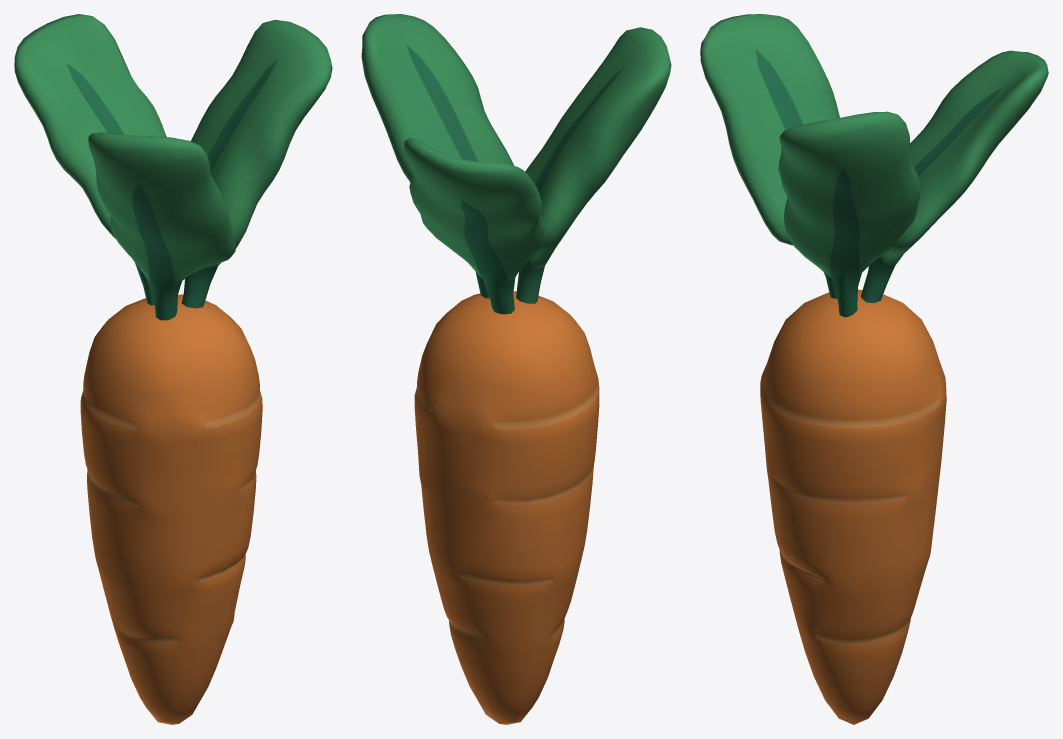
The model's file is Carrot_02.dae.
3 views of the same model, side by side, from view 1: azimuth 30°, elevation 25°; view 2: azimuth 150°, elevation 25°; view 3: azimuth 270°, elevation 25° (orthographic).
Visible parts, largest first — view 1: Carrot_02_LOD0; view 2: Carrot_02_LOD0; view 3: Carrot_02_LOD0.
Part boxes in pixels (box(x1,y1,x2,y2)): Carrot_02_LOD0: box(14, 14, 332, 724); Carrot_02_LOD0: box(361, 14, 671, 724); Carrot_02_LOD0: box(700, 14, 1048, 724).
Size of what is drawn, in the model's own units: 3.42 by 3.95 by 8.41.
